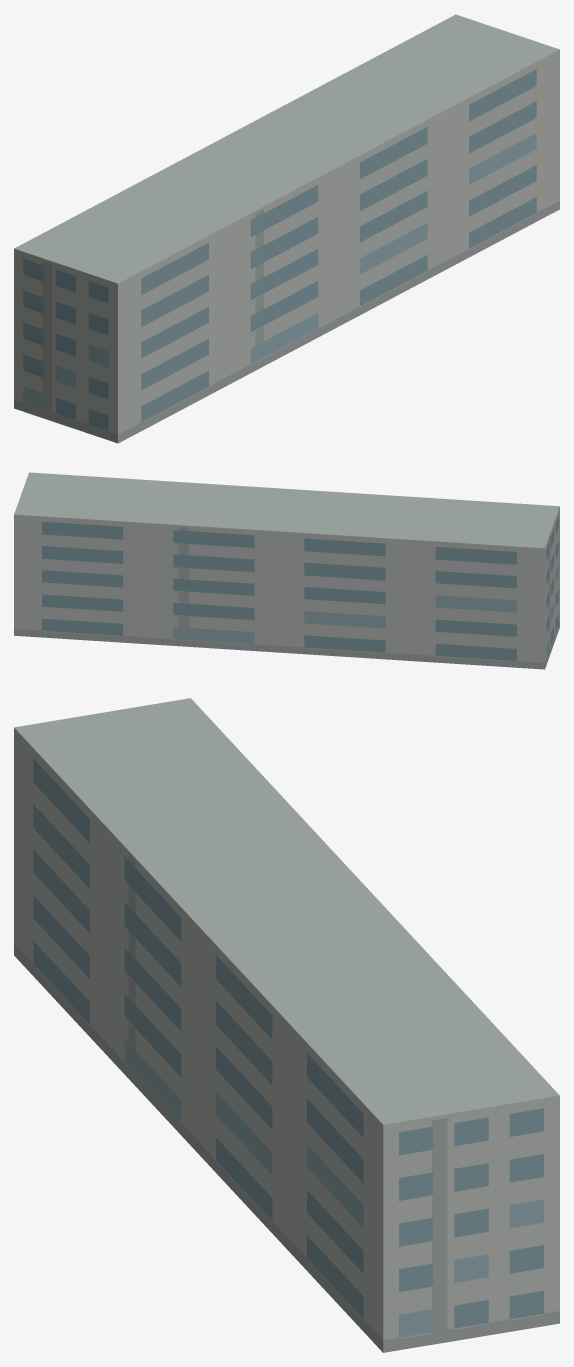
The model's file is residential-4bf1123f-240a-475e-9d3f-d7e5030228cc.glb.
3 renders of one model, top to bottom at view 1: azimuth 30°, elevation 25°; view 2: azimuth 150°, elevation 25°; view 3: azimuth 270°, elevation 25°, orthographic. The views are drawn at different scales.
Parts seen in each view (by area): view 1: residential-4bf1123f-240a-475e-9d3f-d7e5030228cc.tmp; view 2: residential-4bf1123f-240a-475e-9d3f-d7e5030228cc.tmp; view 3: residential-4bf1123f-240a-475e-9d3f-d7e5030228cc.tmp.
Boxes of the visible parts, x1,y1,x2,y2 form: residential-4bf1123f-240a-475e-9d3f-d7e5030228cc.tmp: [14, 14, 559, 443]; residential-4bf1123f-240a-475e-9d3f-d7e5030228cc.tmp: [14, 472, 559, 669]; residential-4bf1123f-240a-475e-9d3f-d7e5030228cc.tmp: [14, 698, 559, 1352].
Bounding box in the file's own units: 61.22 × 15.25 × 33.1.
